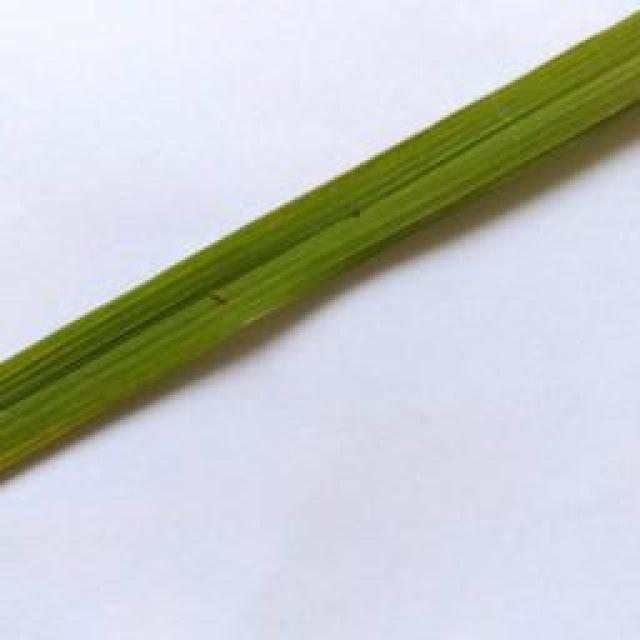Healthy-Plant: (0, 7, 640, 480)
